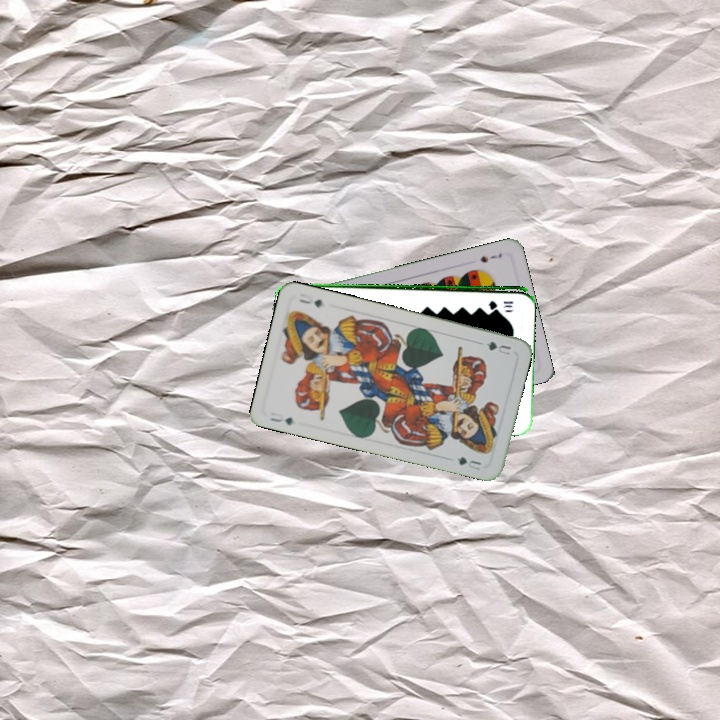G10: (485, 297, 516, 310)
GU: (482, 337, 513, 358), (265, 408, 296, 428)
S7: (476, 249, 504, 265)
